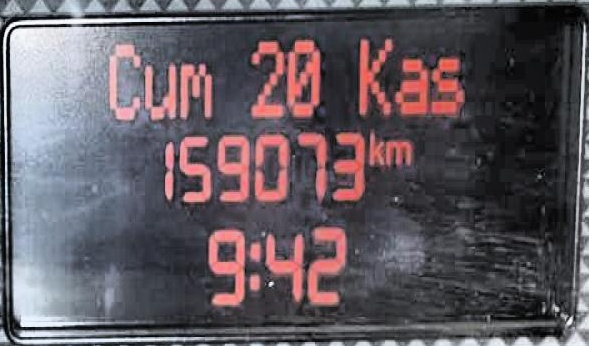0: (286, 38, 318, 115), (252, 132, 287, 198)
1: (162, 138, 173, 200)
2: (307, 225, 344, 303), (248, 38, 282, 115)
3: (332, 130, 363, 200)
4: (265, 232, 302, 302)
5: (179, 135, 210, 201)
7: (296, 130, 325, 195)
9: (206, 226, 243, 305), (216, 133, 248, 200)
X: (357, 33, 391, 115), (107, 42, 141, 118), (428, 55, 462, 113), (394, 55, 427, 113), (142, 62, 175, 118), (178, 62, 211, 117), (247, 238, 261, 292), (385, 138, 411, 165), (369, 132, 385, 163)
